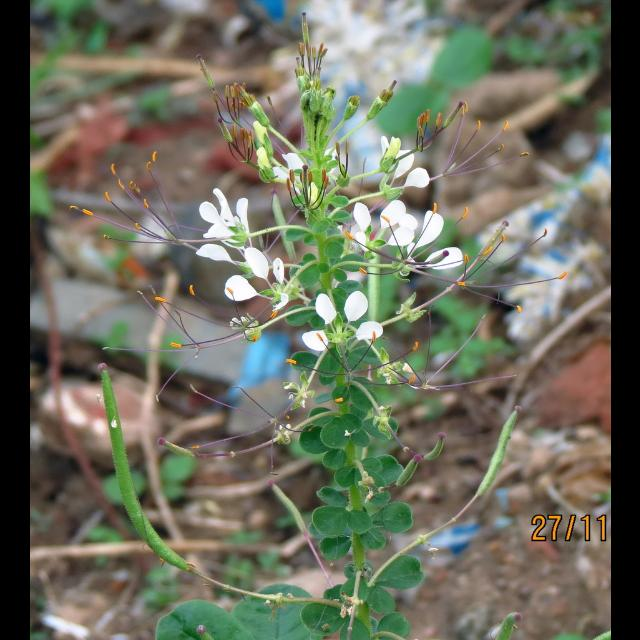Flower: (407, 208, 468, 274), (196, 187, 250, 249), (374, 199, 416, 249), (341, 200, 372, 262), (268, 152, 306, 198), (379, 134, 411, 178), (241, 246, 271, 280), (222, 272, 256, 300), (194, 243, 238, 264), (401, 164, 433, 192), (344, 290, 370, 320), (316, 292, 336, 326), (354, 320, 384, 340), (302, 329, 326, 353), (270, 292, 292, 312), (272, 257, 284, 283)
